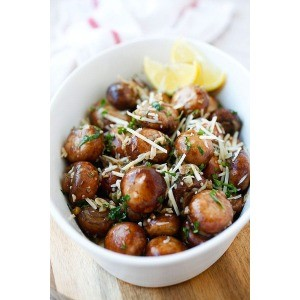mushroom_brain food: (75, 111, 233, 204)
